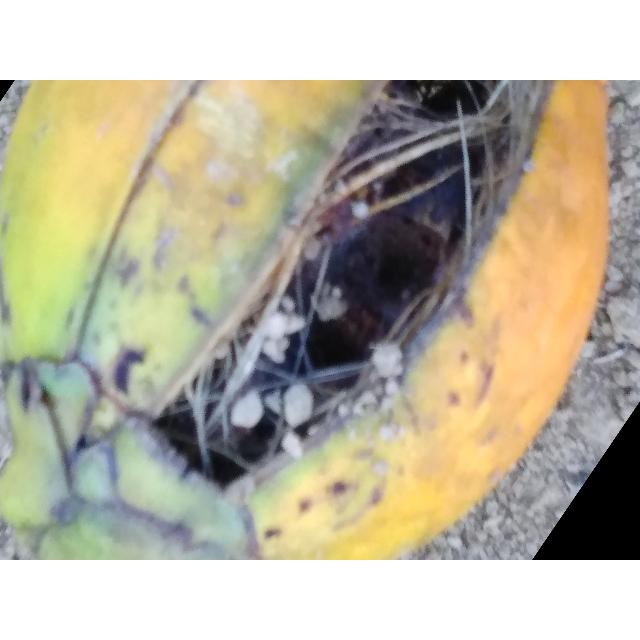damaged: (0, 80, 610, 560)
